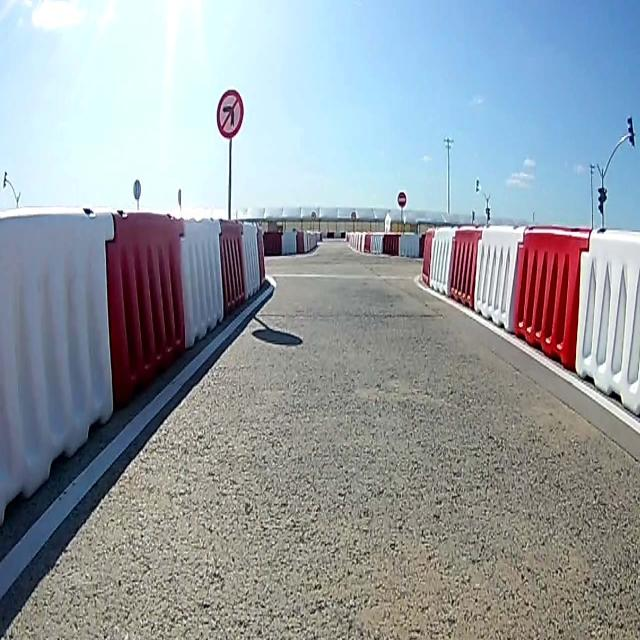girisyok: (398, 190, 407, 208)
soladonulmez: (216, 88, 244, 139)
